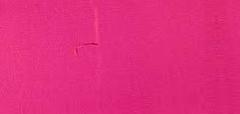snag: (71, 40, 100, 57)
